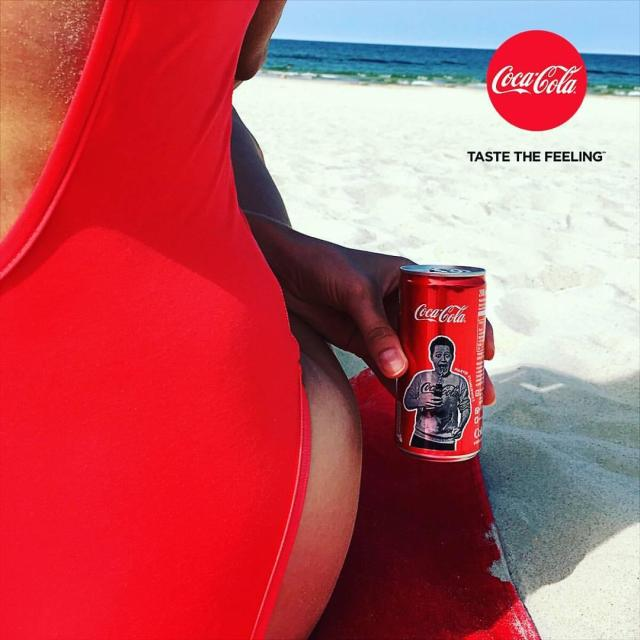coca-cola: (391, 263, 489, 465)
